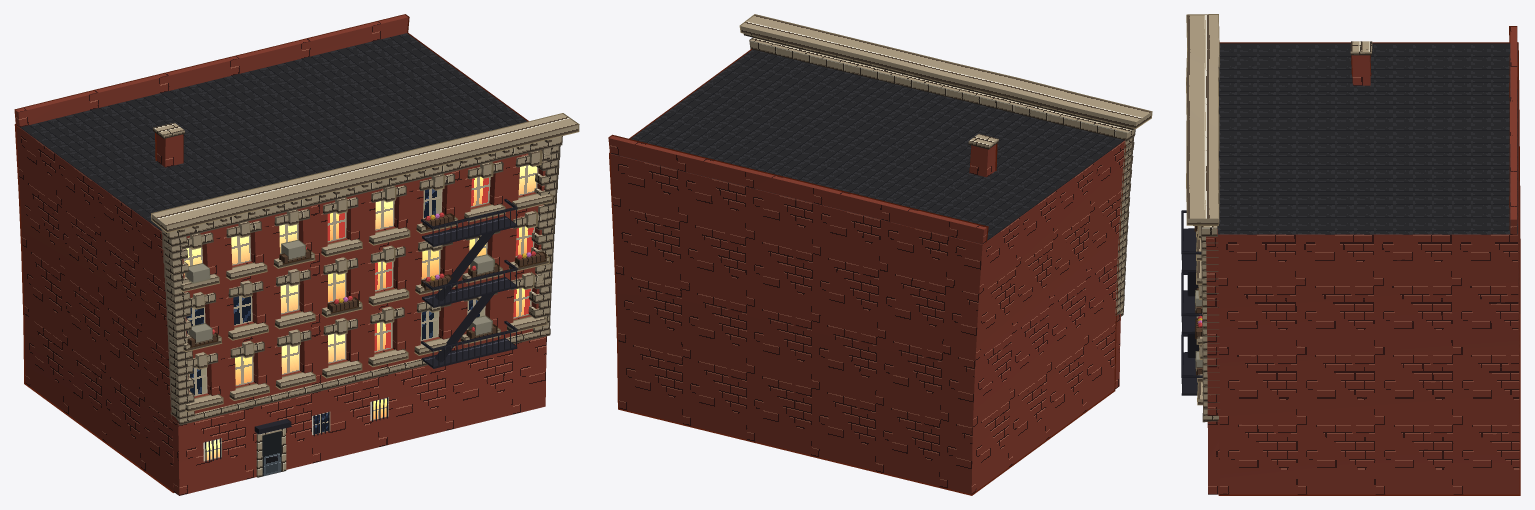
The model's file is Haus_back_8.glb.
3 renders of one model, left to right at view 1: azimuth 30°, elevation 25°; view 2: azimuth 150°, elevation 25°; view 3: azimuth 270°, elevation 25°, orthographic. The views are drawn at different scales.
Visible parts, largest first — view 1: Haus_back_8; view 2: Haus_back_8; view 3: Haus_back_8.
Boxes of the visible parts, x1,y1,x2,y2 form: Haus_back_8: [14, 14, 579, 495]; Haus_back_8: [608, 14, 1152, 495]; Haus_back_8: [1181, 14, 1520, 495].
Size of the model in its own units: 24.82 by 17.01 by 17.42.
Materials: 20 (9 with a texture image).
